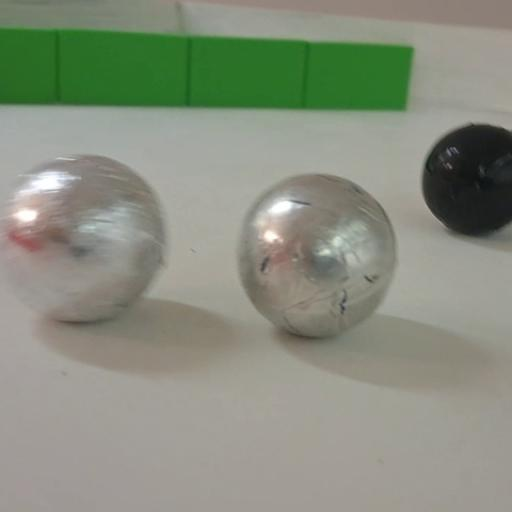alive: (2, 155, 166, 326), (235, 172, 396, 339)
dead: (419, 122, 510, 237)
